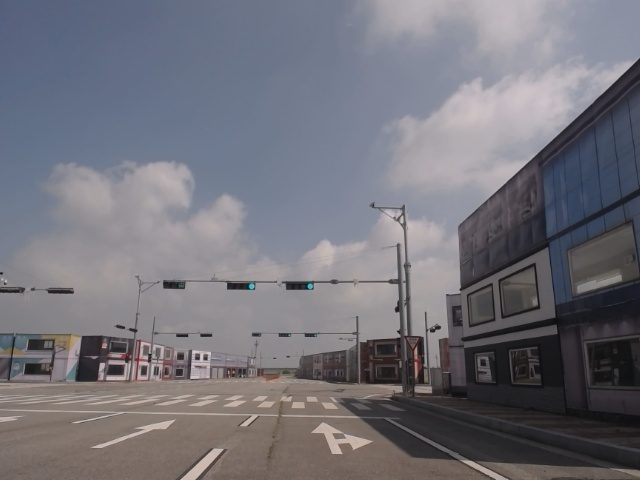straight_green_4: (285, 282, 315, 290), (228, 282, 256, 289)
